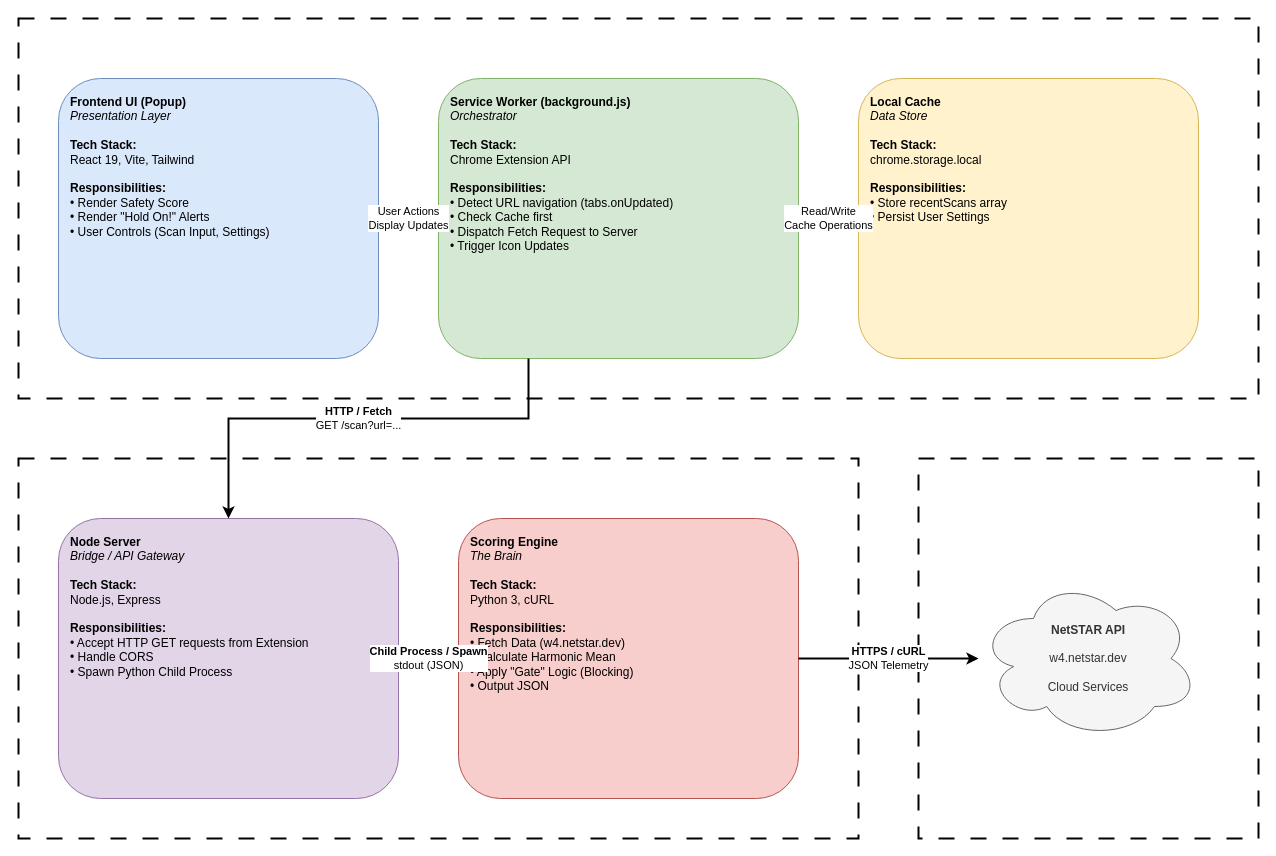
This 1276x856 diagram has some shape labels left out. Each missing label, with the box of its shape:
Browser Environment: (17, 17, 1259, 399)
External: (917, 457, 1259, 839)
Local Server Environment (Sidecar): (17, 457, 859, 839)
